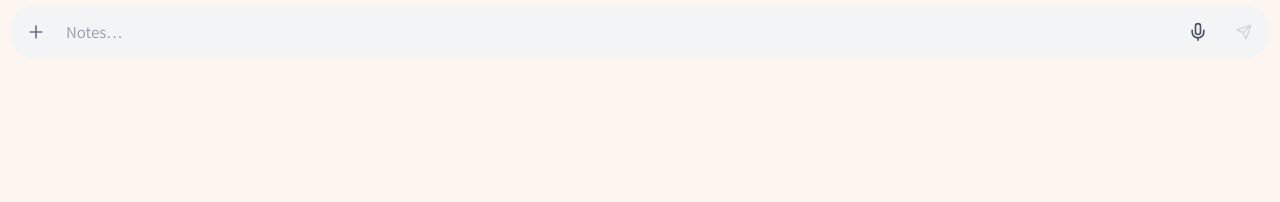
ViewingChatComposer permission onboarding › keeps typed notes when the browser denies the microphone
Type "keep this note" into the text box labelled "Notes…" at x=617, y=32, box [60,14,1174,50]
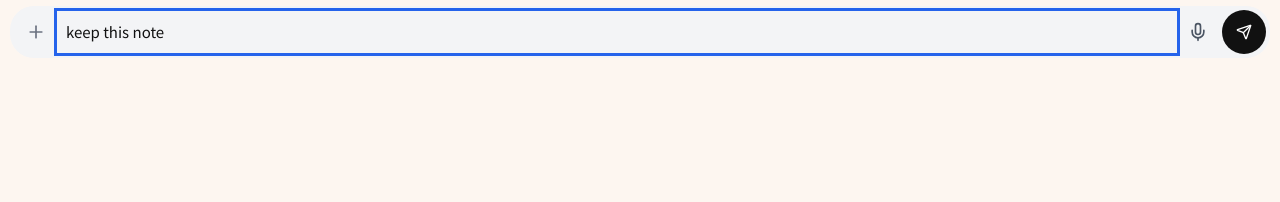
Click the button named "Recording" at x=1198, y=32, box [1176,10,1220,54]
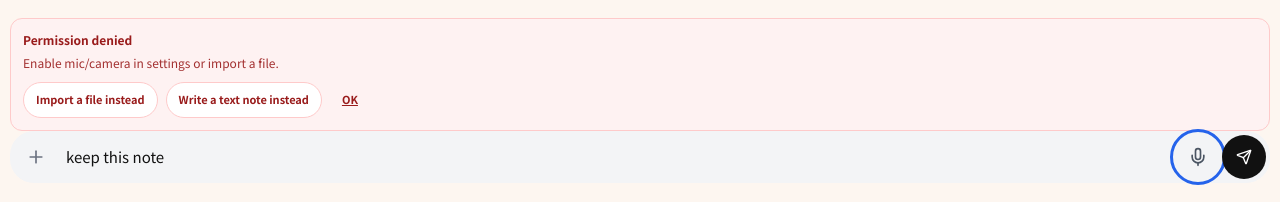
Expected: the button "Import a file instead" is shown, [23,82,158,118]
